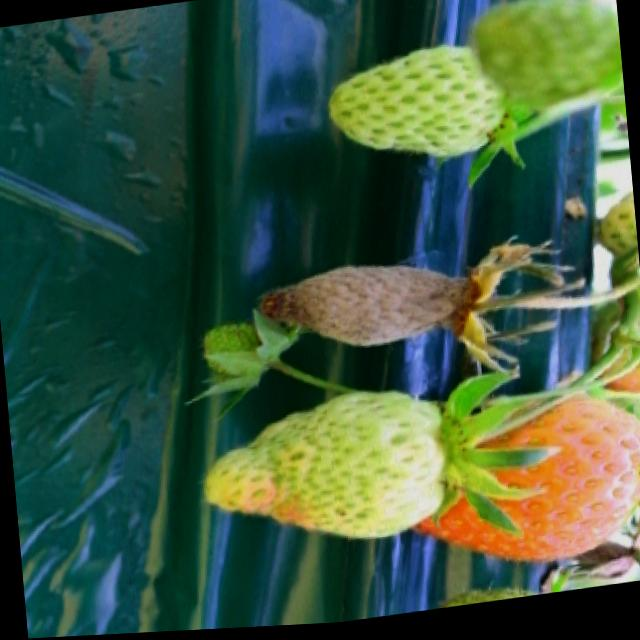Gray Mold: (253, 250, 560, 380)
